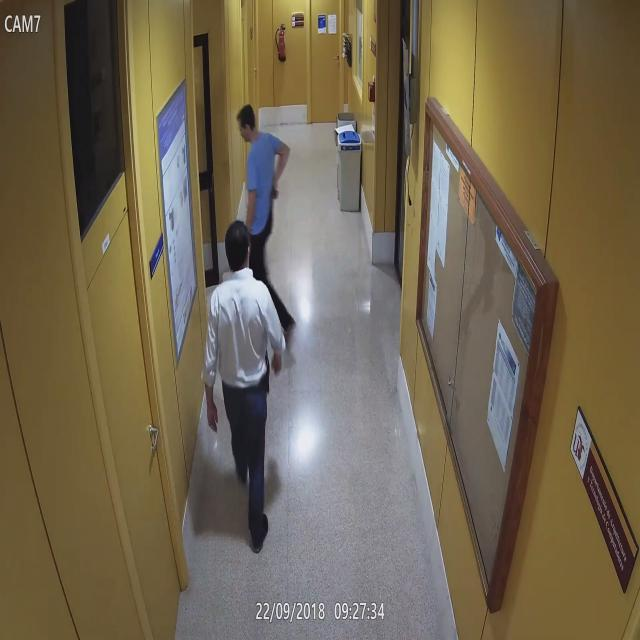Gun: (270, 184, 279, 206)
